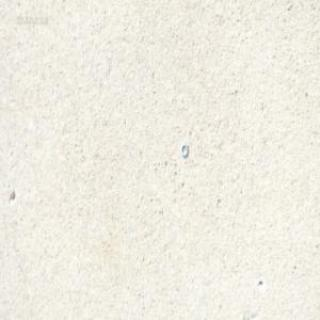Washertrack_idkeyframe: (180, 143, 188, 159)
